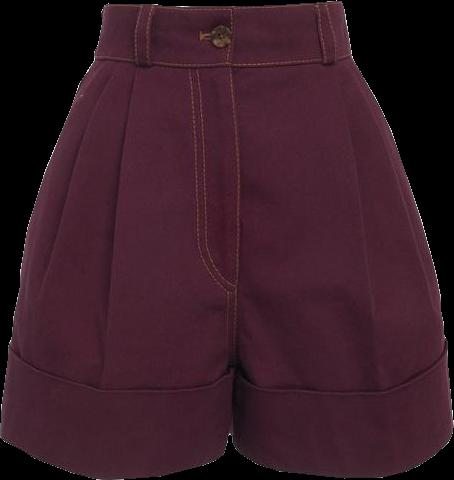Hemline: (1, 434, 226, 479), (231, 434, 453, 479)
Pantleg: (0, 4, 230, 478), (232, 1, 452, 477)
Waistline: (94, 53, 350, 72), (102, 0, 338, 13)
